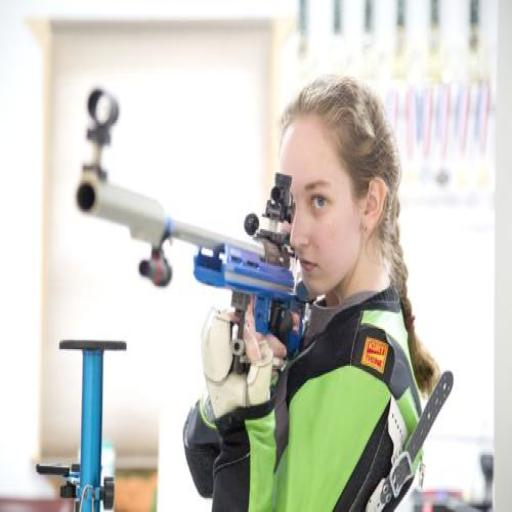shooting: (180, 71, 442, 510)
